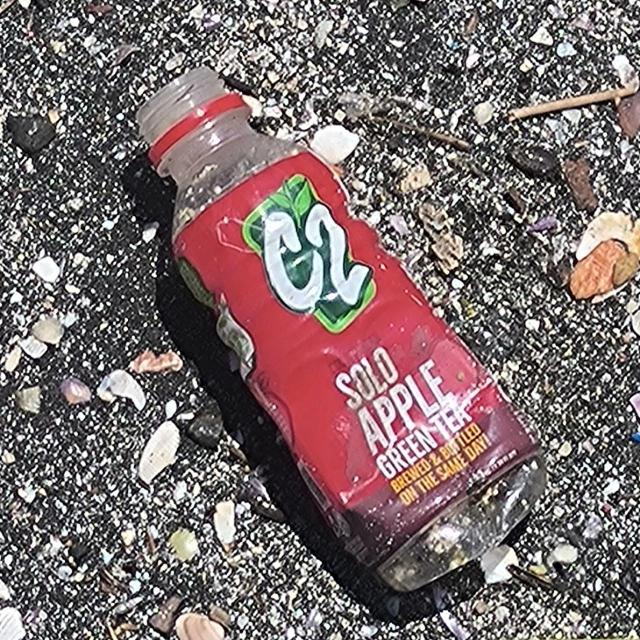plastic_waste: (130, 60, 554, 596)
